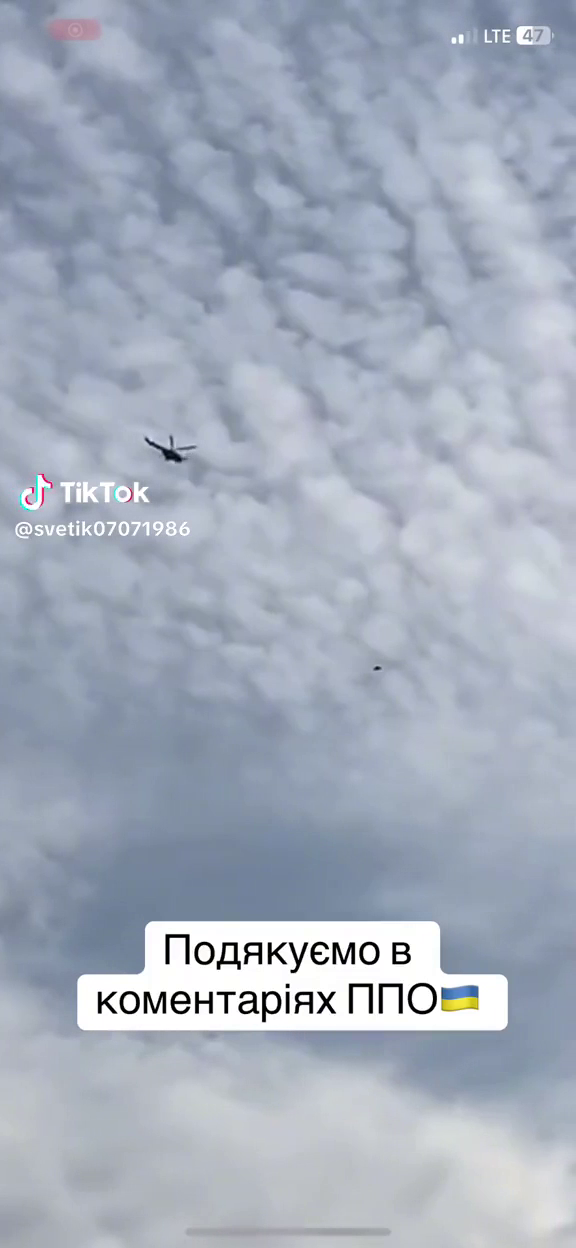not_drone: (138, 429, 201, 469)
